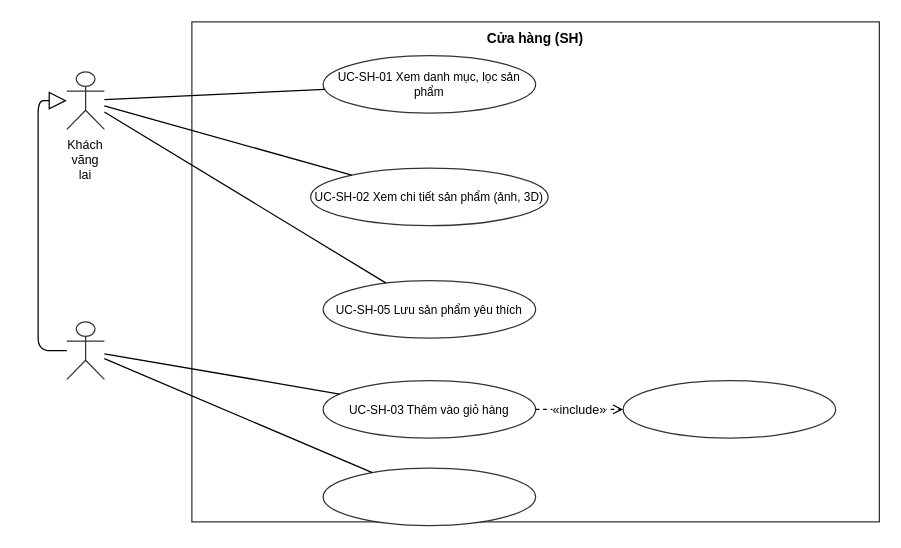
The diagram is 901 pixels wide and 548 high, and some of its shapes have lost their labels. Each missing label, with the centre of its shape:
Khách hàng: point 85,350
UC-SH-04 Quản lý giỏ hàng: point 429,496
Đăng nhập (UC-AUTH-02): point 729,408
